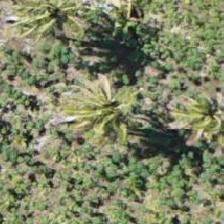coconut_tree: (62, 65, 152, 155), (17, 0, 107, 56), (173, 75, 223, 165)
